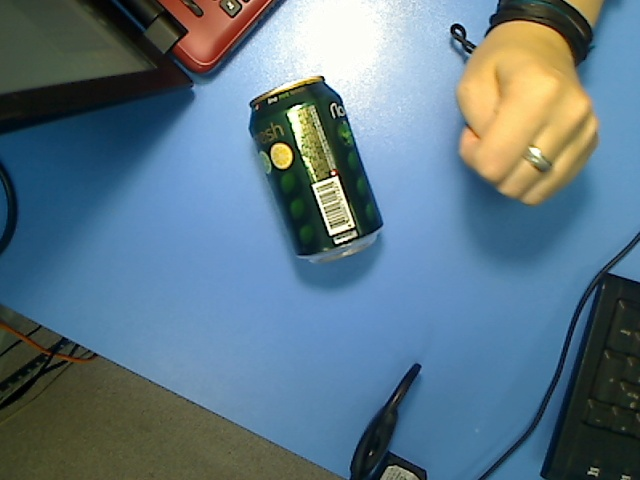can: (248, 75, 387, 267)
